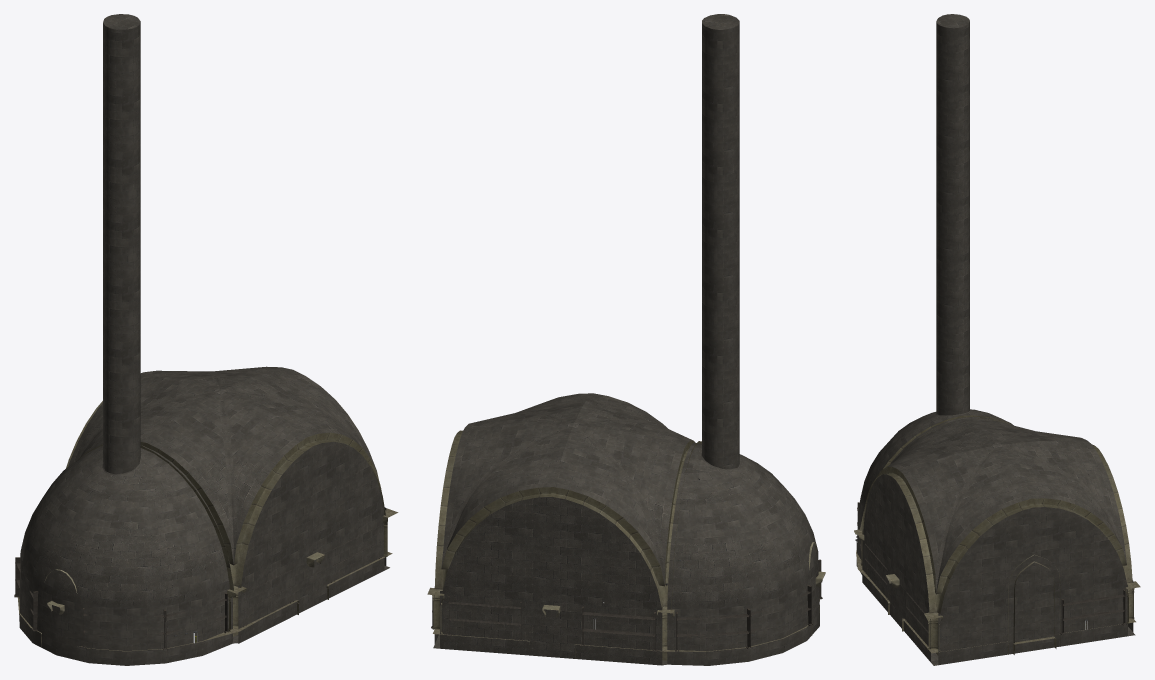
File: SnapeOffice.fbx
3 views of the same model, side by side, from view 1: azimuth 30°, elevation 25°; view 2: azimuth 150°, elevation 25°; view 3: azimuth 270°, elevation 25° (orthographic). The views are drawn at different scales.
Parts seen in each view (by area): view 1: walls, atlased_objects15, atlased_objects, atlased_objects14; view 2: walls, atlased_objects15, atlased_objects, atlased_objects16; view 3: walls, atlased_objects15, atlased_objects, atlased_objects16, atlased_objects14.
Boxes of the visible parts, left/top/right/bottom form: walls: left=19, top=14, right=386, bottom=665; atlased_objects15: left=66, top=391, right=385, bottom=592; atlased_objects: left=14, top=450, right=299, bottom=651; atlased_objects14: left=326, top=508, right=398, bottom=599; walls: left=434, top=14, right=819, bottom=665; atlased_objects15: left=435, top=430, right=701, bottom=614; atlased_objects: left=574, top=478, right=825, bottom=660; atlased_objects16: left=427, top=587, right=529, bottom=644; walls: left=856, top=14, right=1133, bottom=665; atlased_objects15: left=860, top=415, right=1132, bottom=613; atlased_objects: left=854, top=415, right=1060, bottom=654; atlased_objects16: left=1059, top=581, right=1140, bottom=634; atlased_objects14: left=902, top=592, right=1009, bottom=655.
Size of the model in its own units: 12.27 by 19.89 by 9.69.
18 materials, 17 textured.
